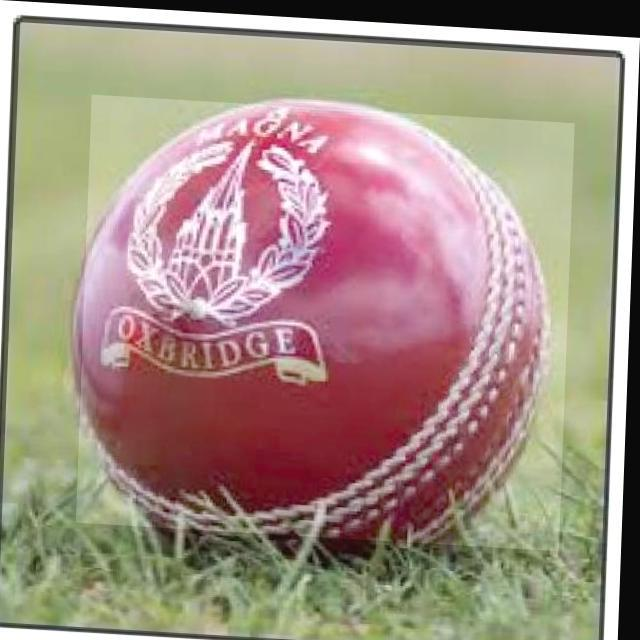-: (80, 94, 575, 544)
